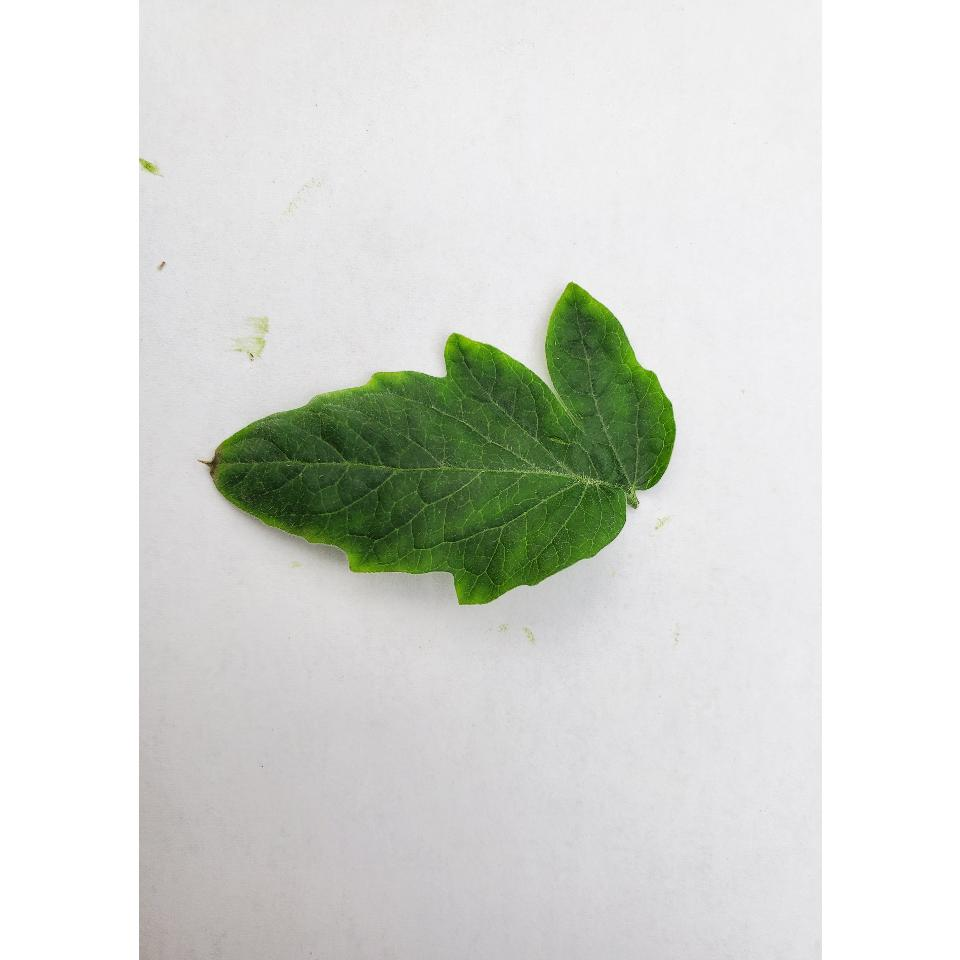tomato_leaves: (197, 280, 677, 622)
